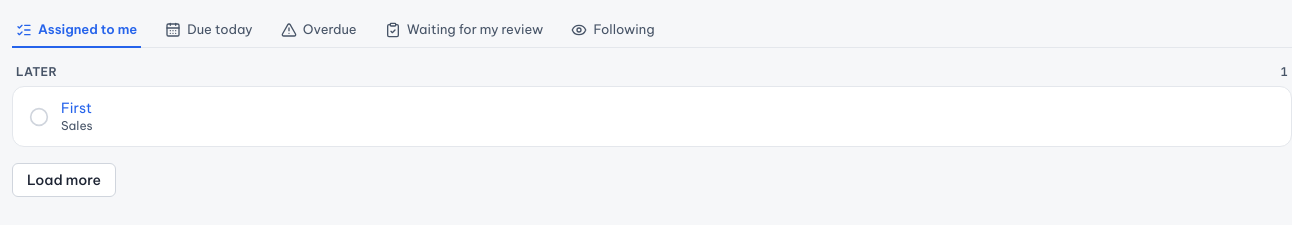
MyTasksScreen › loads the next page
Click the button "Load more" at (64,180), box [12,163,116,197]
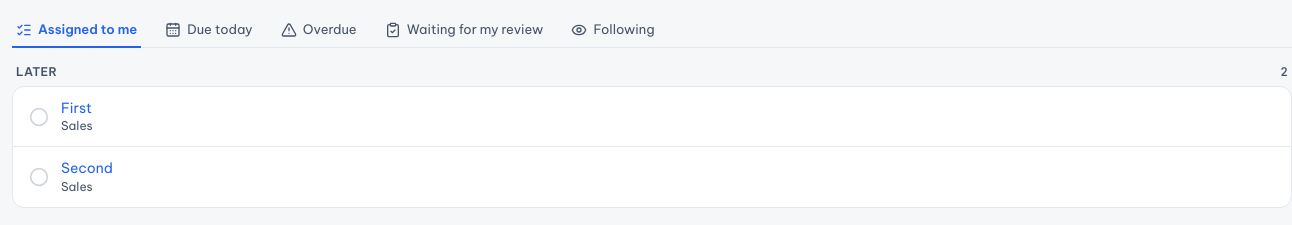
Expected: the link "First" is shown, [61,99,92,117]
Result: the link "Second" is shown at [61,159,113,177]
